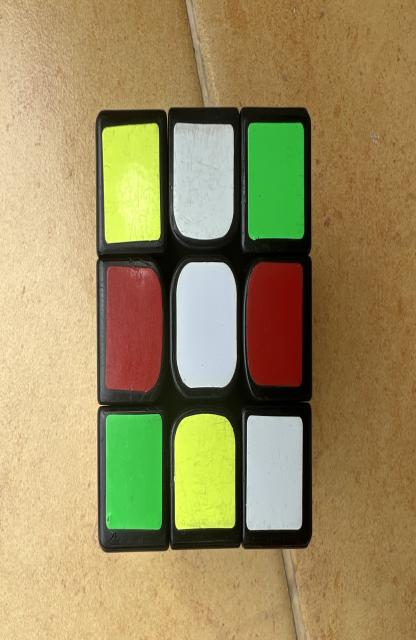Green: (248, 122, 305, 240), (106, 413, 162, 530)
Red: (246, 262, 303, 387), (106, 265, 162, 392)
White: (176, 262, 237, 388), (173, 122, 234, 240), (246, 415, 303, 530)
Yellow: (174, 413, 236, 530), (102, 123, 161, 243)
